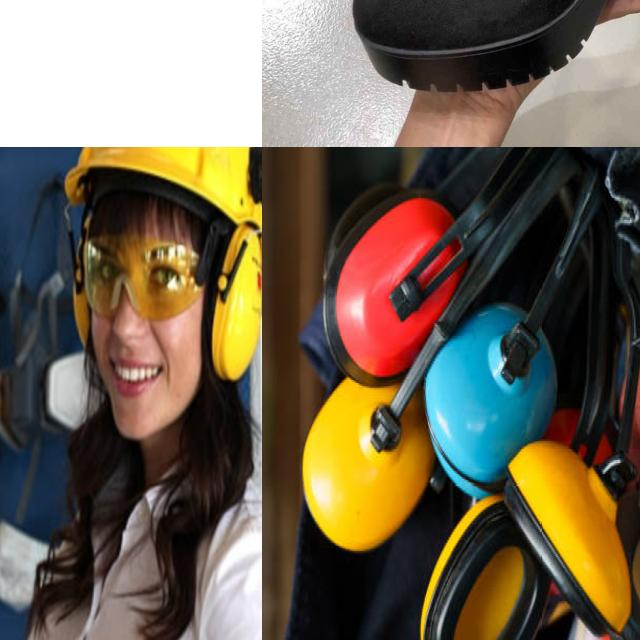Ear-protection: (324, 147, 554, 381), (208, 230, 262, 380), (66, 223, 94, 355)
Sandals: (285, 0, 640, 111)
glasses: (76, 240, 209, 316)
head_helmet: (59, 147, 262, 219)
person: (32, 147, 262, 640)
